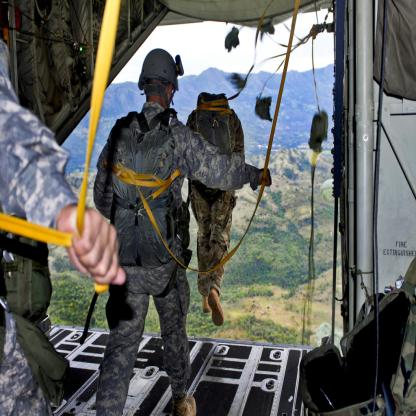Helmet: (136, 49, 178, 113)
